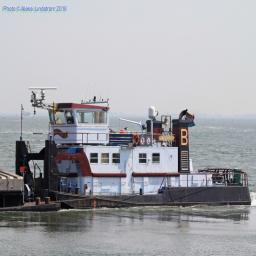tugboat: (15, 86, 254, 217)
